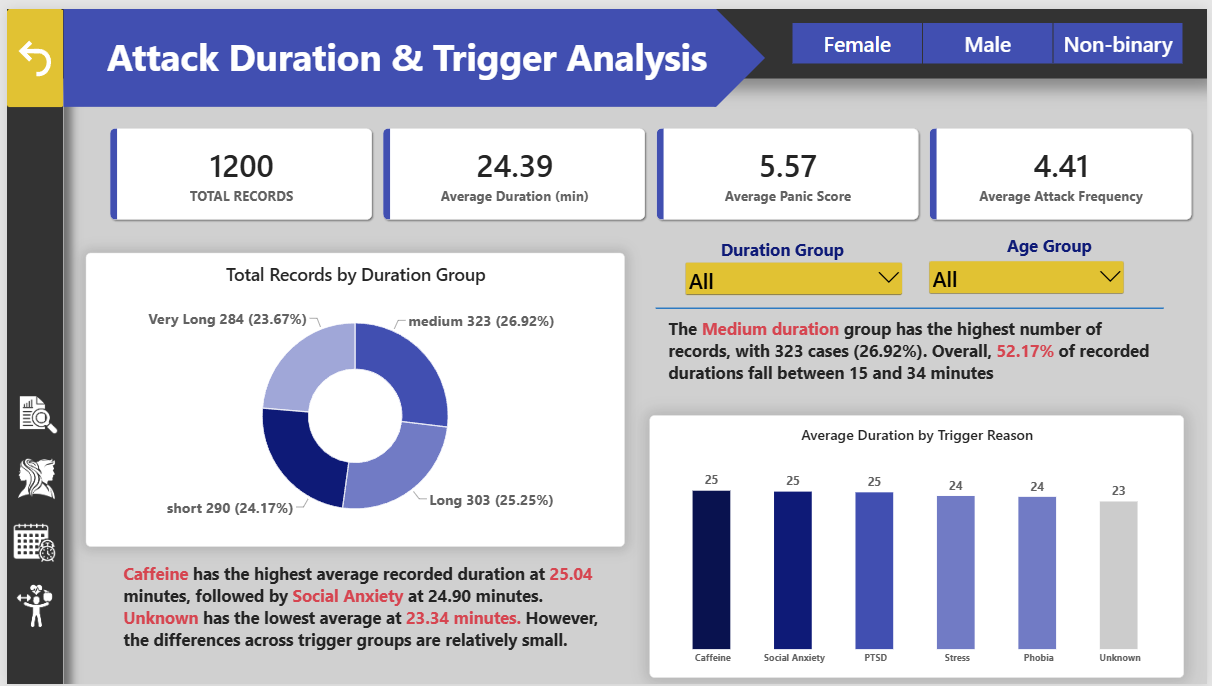

What the dashboard file says about the page in this screenshot:
{"tool":"powerbi","page":{"name":"Duration","canvas":[1920,1080],"ordinal":2},"visuals":[{"type":"shape","box":[0,0,90,1080],"z":0},{"type":"shape","box":[55,0,1865,111.2],"z":1000},{"type":"shape","box":[1037.1,450,812.5,57.5],"z":2000},{"type":"cardVisual","fields":{"Data":["MEASURABLE_TABLE.TOTAL RECORDS","MEASURABLE_TABLE.AVG_DURATION","MEASURABLE_TABLE.AVG_PANIC_SCORE","MEASURABLE_TABLE.AVG_ATTACK_FRQ"]},"box":[160,185,1740,156],"z":3000},{"type":"columnChart","title":"Average Duration by Trigger Reason","fields":{"Category":["PANIC_ATTACK_DATA.TRIGGER_REASON"],"Y":["MEASURABLE_TABLE.AVG_DURATION"]},"box":[1027.5,650,855,420],"z":4000},{"type":"slicer","fields":{"Values":["PANIC_ATTACK_DATA.GENDER"]},"box":[1235,20,664.2,69.2],"z":5000},{"type":"slicer","fields":{"Values":["PANIC_ATTACK_DATA.Duration Group"]},"box":[1079.6,399.2,358,92],"z":6000},{"type":"slicer","fields":{"Values":["PANIC_ATTACK_DATA.AGE_GROUP"]},"box":[1469,397.9,322.5,67.5],"z":7000},{"type":"textbox","box":[1600,360,192.5,40],"z":8000},{"type":"textbox","box":[1142,366.9,326,49],"z":9000},{"type":"actionButton","box":[0,0,90,157.5],"z":10000},{"type":"textbox","box":[1057.5,492.5,776,160],"z":11000},{"type":"donutChart","title":"Total Records by Duration Group","fields":{"Category":["PANIC_ATTACK_DATA.Duration Group"],"Y":["MEASURABLE_TABLE.TOTAL RECORDS"]},"box":[125,390,862.5,470],"z":12000},{"type":"textbox","box":[186,884,774,186],"z":13000},{"type":"shape","box":[90,0,1123.3,156.7],"z":14000},{"type":"textbox","box":[160,35,970,90],"z":15000},{"type":"group","id":"g1","title":"Group 1","box":[0,600,92,404],"z":15001},{"type":"image","box":[2,698,90,102],"z":16000,"group":"g1"},{"type":"image","box":[2,600,90,102],"z":17000,"group":"g1"},{"type":"image","box":[0,800,90,102],"z":18000,"group":"g1"},{"type":"image","box":[0,902,90,102],"z":19000,"group":"g1"}]}

Visuals, with their boxes on the page's 1920x1080 design canvas (x1, y1, x2, y2). These are canvas units, not pixel positions in the 1212x686 screenshot, which may show the page scaled, cropped or inside an application window:
shape: pyautogui.locateOnScreen(0, 0, 90, 1080)
shape: pyautogui.locateOnScreen(55, 0, 1920, 111)
shape: pyautogui.locateOnScreen(1037, 450, 1850, 508)
cardVisual - MEASURABLE_TABLE.TOTAL RECORDS x MEASURABLE_TABLE.AVG_DURATION: pyautogui.locateOnScreen(160, 185, 1900, 341)
"Average Duration by Trigger Reason" columnChart: pyautogui.locateOnScreen(1028, 650, 1882, 1070)
slicer - PANIC_ATTACK_DATA.GENDER: pyautogui.locateOnScreen(1235, 20, 1899, 89)
slicer - PANIC_ATTACK_DATA.Duration Group: pyautogui.locateOnScreen(1080, 399, 1438, 491)
slicer - PANIC_ATTACK_DATA.AGE_GROUP: pyautogui.locateOnScreen(1469, 398, 1792, 465)
textbox: pyautogui.locateOnScreen(1600, 360, 1792, 400)
textbox: pyautogui.locateOnScreen(1142, 367, 1468, 416)
actionButton: pyautogui.locateOnScreen(0, 0, 90, 158)
textbox: pyautogui.locateOnScreen(1058, 492, 1834, 652)
"Total Records by Duration Group" donutChart: pyautogui.locateOnScreen(125, 390, 988, 860)
textbox: pyautogui.locateOnScreen(186, 884, 960, 1070)
shape: pyautogui.locateOnScreen(90, 0, 1213, 157)
textbox: pyautogui.locateOnScreen(160, 35, 1130, 125)
"Group 1" group: pyautogui.locateOnScreen(0, 600, 92, 1004)
image: pyautogui.locateOnScreen(2, 698, 92, 800)
image: pyautogui.locateOnScreen(2, 600, 92, 702)
image: pyautogui.locateOnScreen(0, 800, 90, 902)
image: pyautogui.locateOnScreen(0, 902, 90, 1004)
